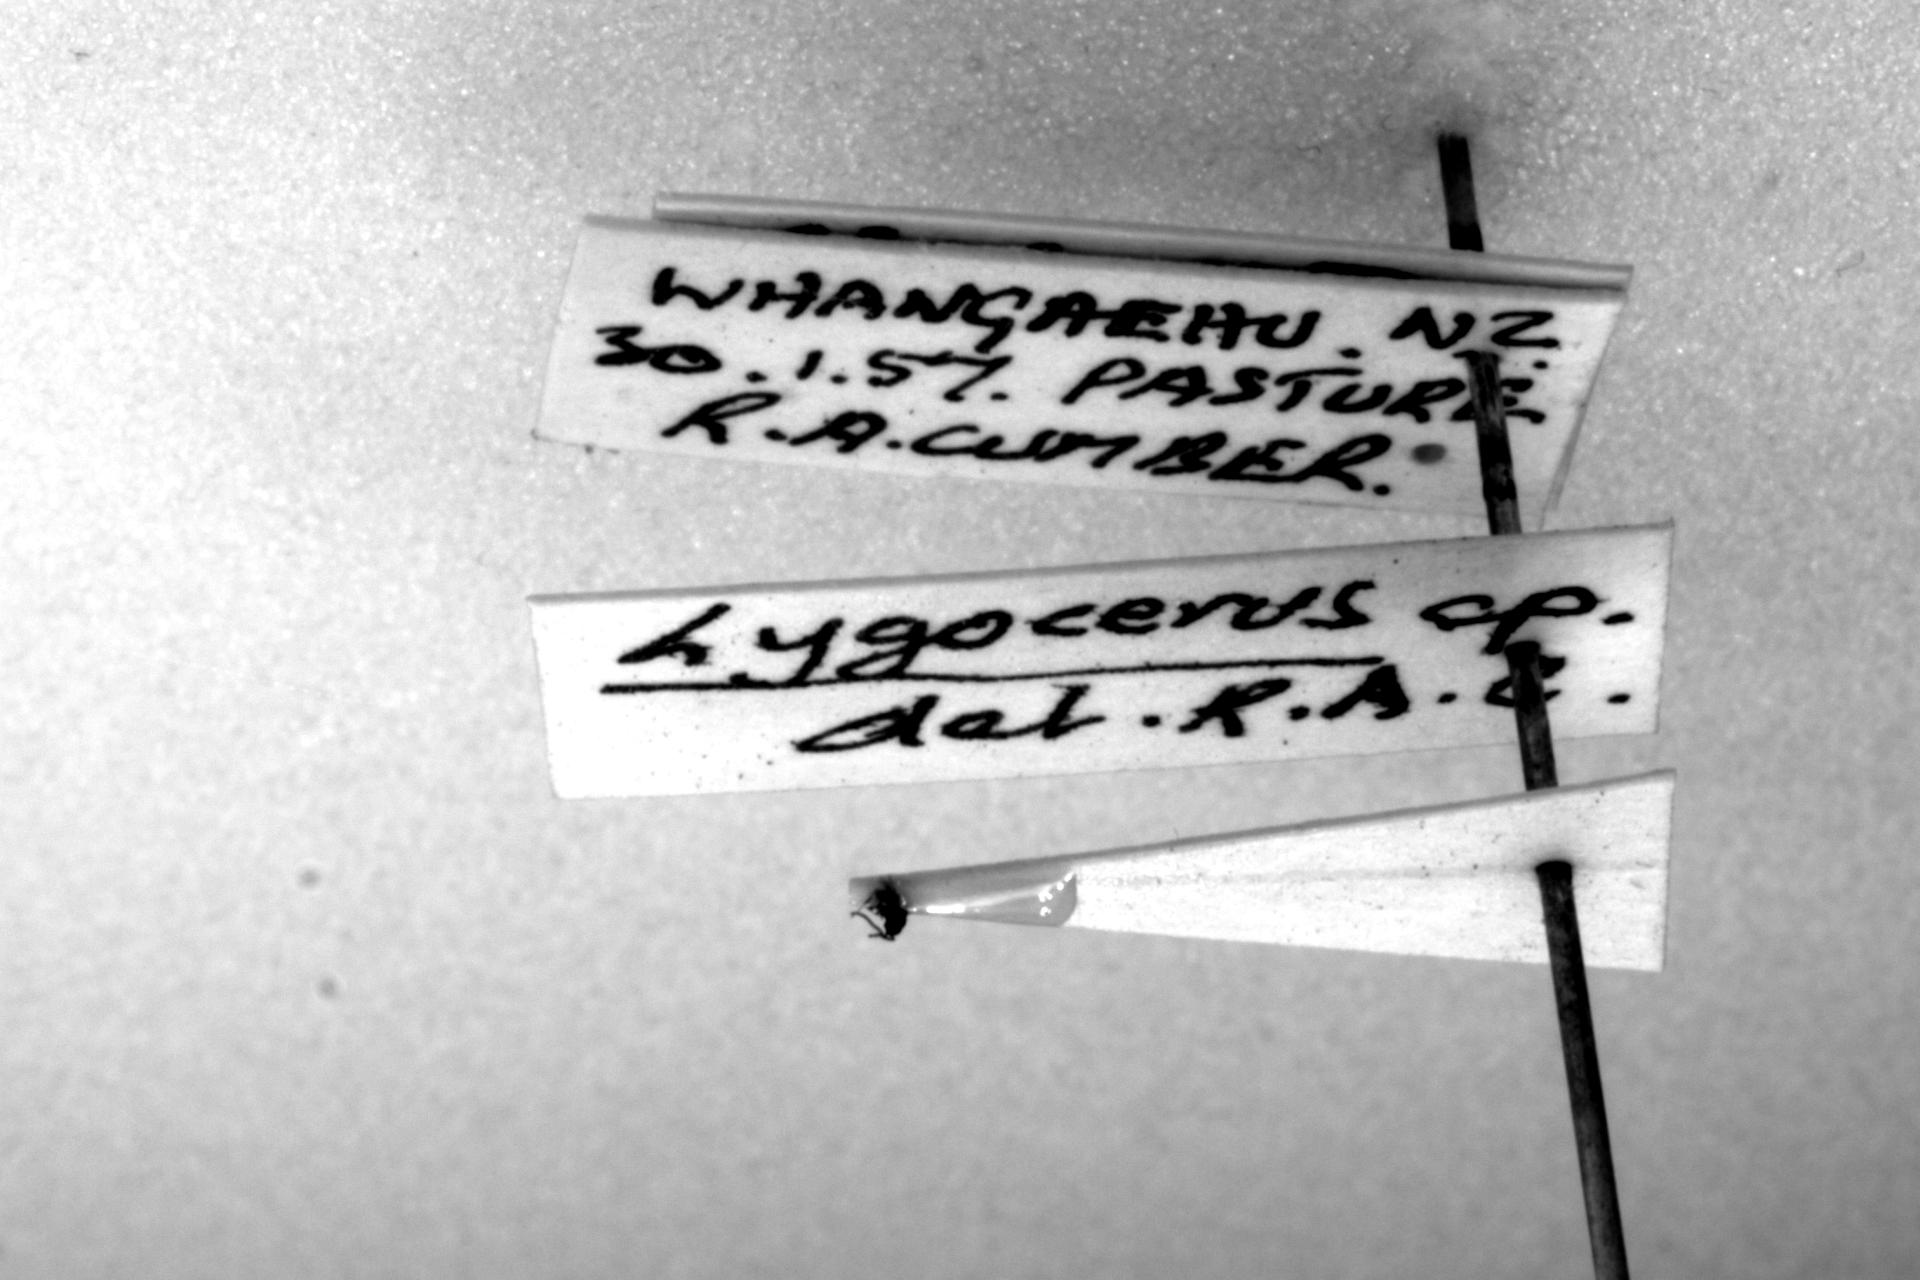hand_label: (536, 217, 1624, 526), (529, 526, 1673, 799)
